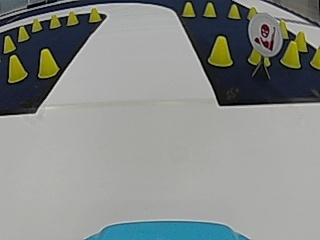evil: (247, 13, 282, 57)
